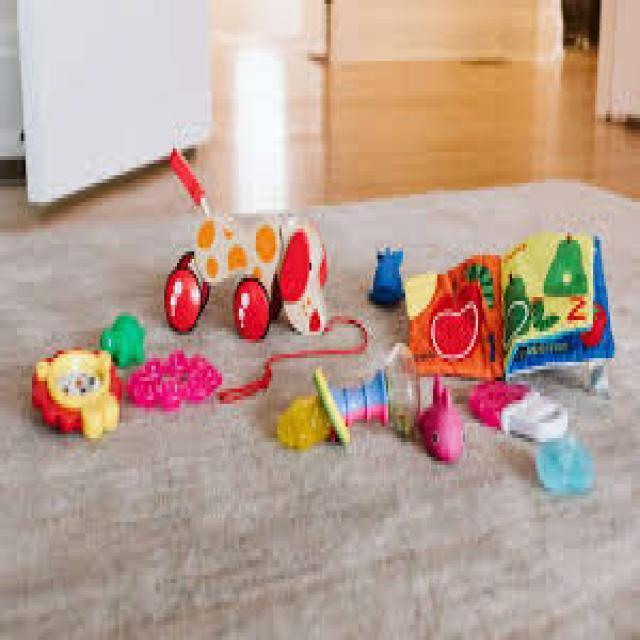hard-toy: (169, 151, 329, 340), (277, 370, 389, 450), (419, 376, 465, 463)
